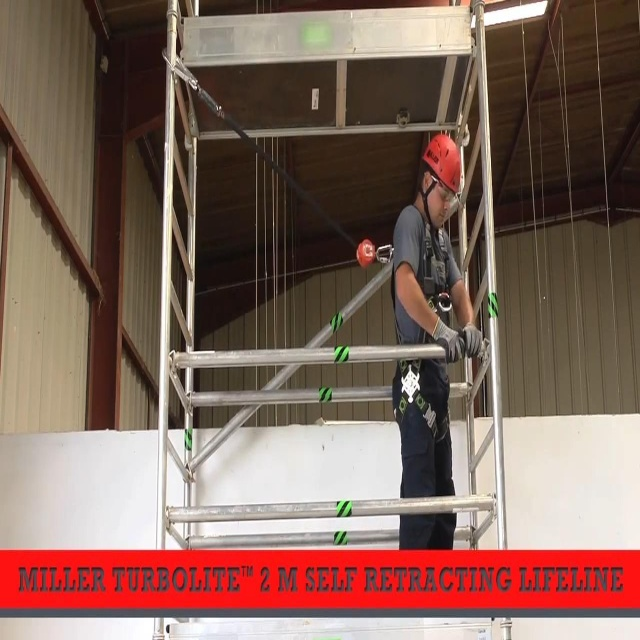Arnes_seguridad: (393, 200, 460, 451)
